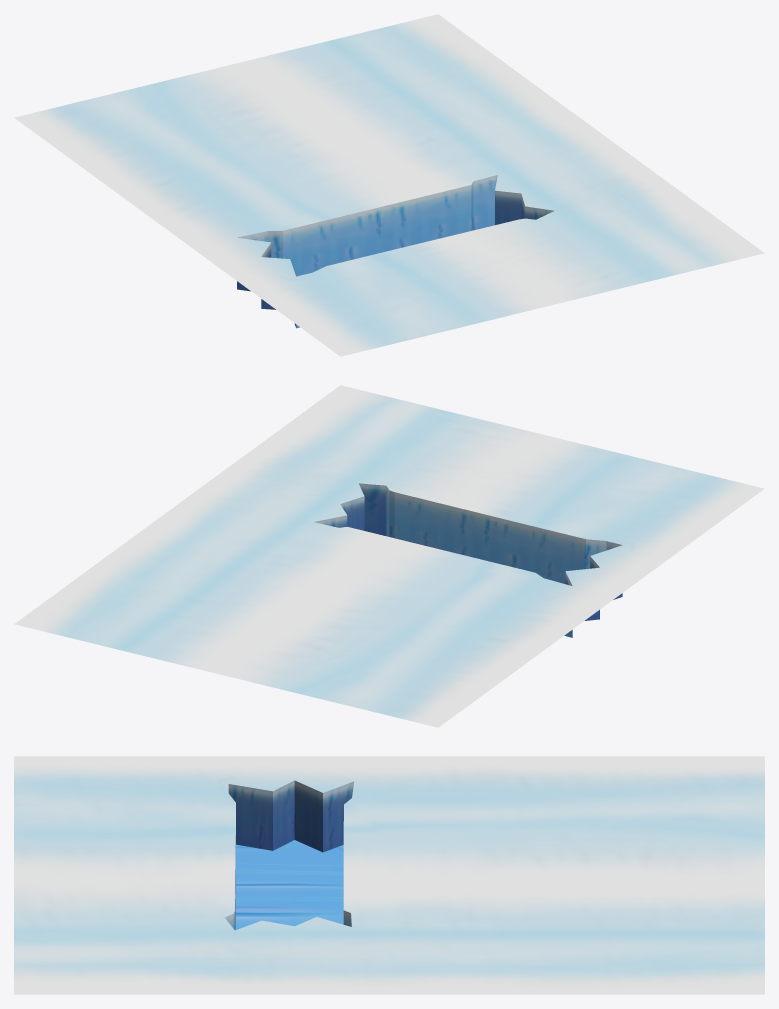
Rendered from Hole_L_Size_03.FBX.
3 views of the same model, one above another, from view 1: azimuth 30°, elevation 25°; view 2: azimuth 150°, elevation 25°; view 3: azimuth 270°, elevation 25° (orthographic). The views are drawn at different scales.
Parts seen in each view (by area): view 1: modelRoad075; view 2: modelRoad075; view 3: modelRoad075.
Boxes of the visible parts, x1,y1,x2,y2 form: modelRoad075: (14, 14, 764, 356); modelRoad075: (14, 385, 764, 727); modelRoad075: (14, 756, 764, 994).
Bounding box in the file's own units: 600 × 70 × 800.
